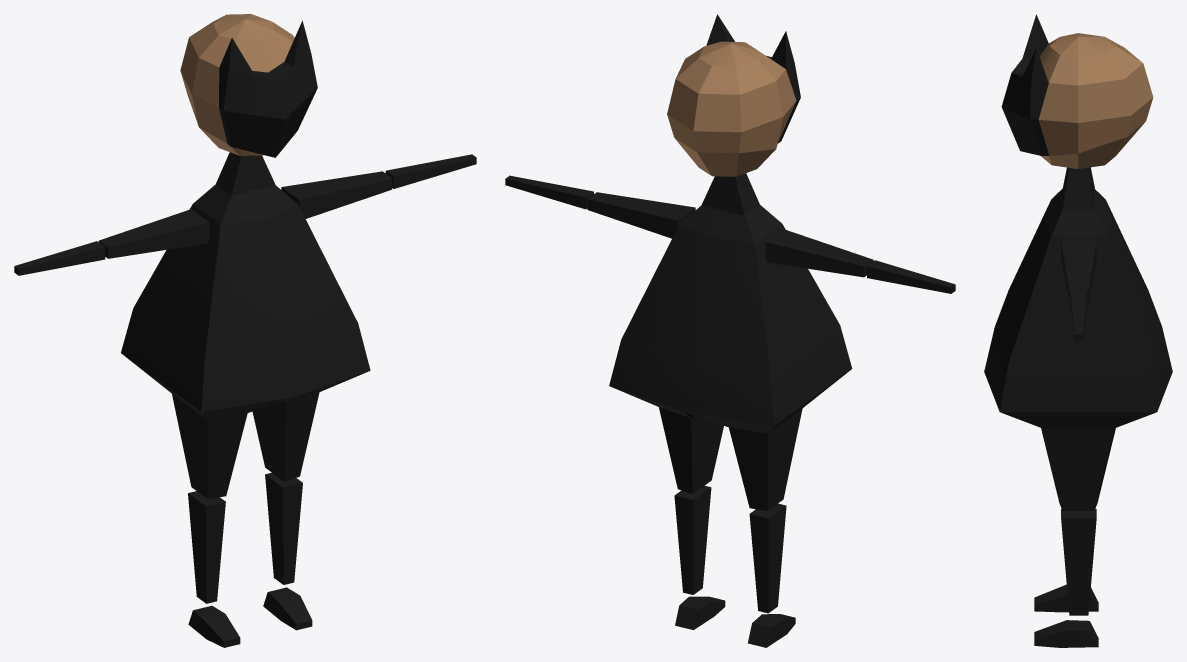
The model's file is toymaker_test.fbx.
The picture shows the model from 3 angles, left to right: view 1: azimuth 30°, elevation 25°; view 2: azimuth 150°, elevation 25°; view 3: azimuth 270°, elevation 25°; orthographic projection. The views are drawn at different scales.
Parts seen in each view (by area): view 1: torso_GEO, head_GEO, r_leg_GEO, l_leg_GEO, r_uparm_GEO, l_uparm_GEO, r_arm_GEO, l_arm_GEO, r_foot_GEO, l_foot_GEO; view 2: torso_GEO, head_GEO, r_leg_GEO, l_leg_GEO, r_uparm_GEO, l_uparm_GEO, r_arm_GEO, l_arm_GEO, l_foot_GEO, r_foot_GEO; view 3: torso_GEO, head_GEO, l_leg_GEO, l_uparm_GEO, l_foot_GEO, r_foot_GEO, l_arm_GEO.
Boxes of the visible parts, left/top/right/bottom form: torso_GEO: left=121, top=152, right=370, bottom=498; head_GEO: left=180, top=14, right=317, bottom=157; r_leg_GEO: left=188, top=491, right=225, bottom=603; l_leg_GEO: left=265, top=472, right=302, bottom=584; r_uparm_GEO: left=98, top=209, right=209, bottom=258; l_uparm_GEO: left=281, top=171, right=392, bottom=218; r_arm_GEO: left=14, top=241, right=105, bottom=275; l_arm_GEO: left=385, top=154, right=476, bottom=188; r_foot_GEO: left=188, top=605, right=240, bottom=647; l_foot_GEO: left=263, top=587, right=312, bottom=630; torso_GEO: left=609, top=173, right=852, bottom=510; head_GEO: left=667, top=14, right=800, bottom=176; r_leg_GEO: left=749, top=503, right=786, bottom=613; l_leg_GEO: left=674, top=485, right=711, bottom=594; r_uparm_GEO: left=765, top=229, right=873, bottom=277; l_uparm_GEO: left=587, top=192, right=695, bottom=238; r_arm_GEO: left=867, top=260, right=955, bottom=293; l_arm_GEO: left=505, top=175, right=593, bottom=209; l_foot_GEO: left=675, top=596, right=725, bottom=629; r_foot_GEO: left=748, top=614, right=795, bottom=647; torso_GEO: left=984, top=167, right=1172, bottom=510; head_GEO: left=1001, top=14, right=1153, bottom=168; l_leg_GEO: left=1061, top=509, right=1096, bottom=615; l_uparm_GEO: left=1061, top=239, right=1096, bottom=301; l_foot_GEO: left=1034, top=620, right=1098, bottom=647; r_foot_GEO: left=1034, top=584, right=1098, bottom=612; l_arm_GEO: left=1070, top=291, right=1086, bottom=340.
Bounding box in the file's own units: 8.32 × 10.54 × 3.04.
